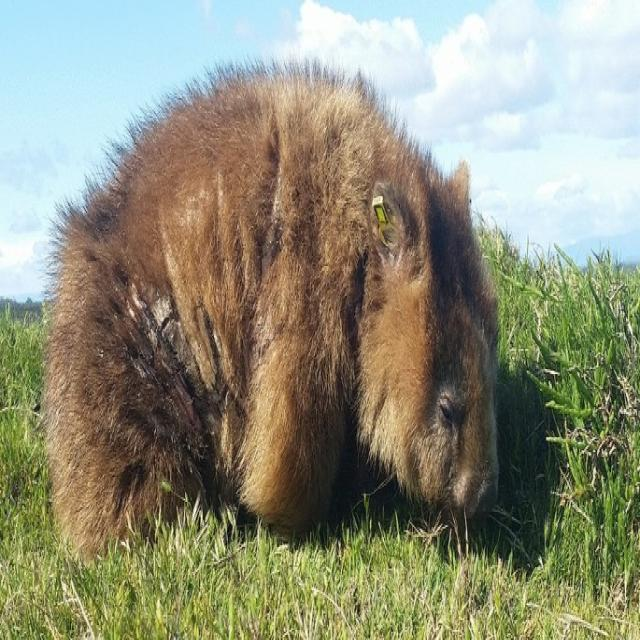Wombat: (46, 56, 508, 556)
